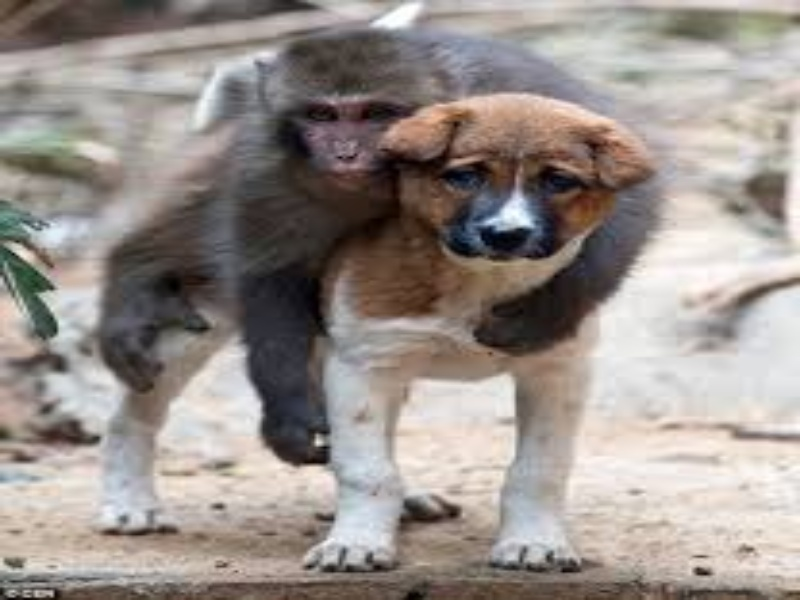monkey: (200, 45, 431, 289)
